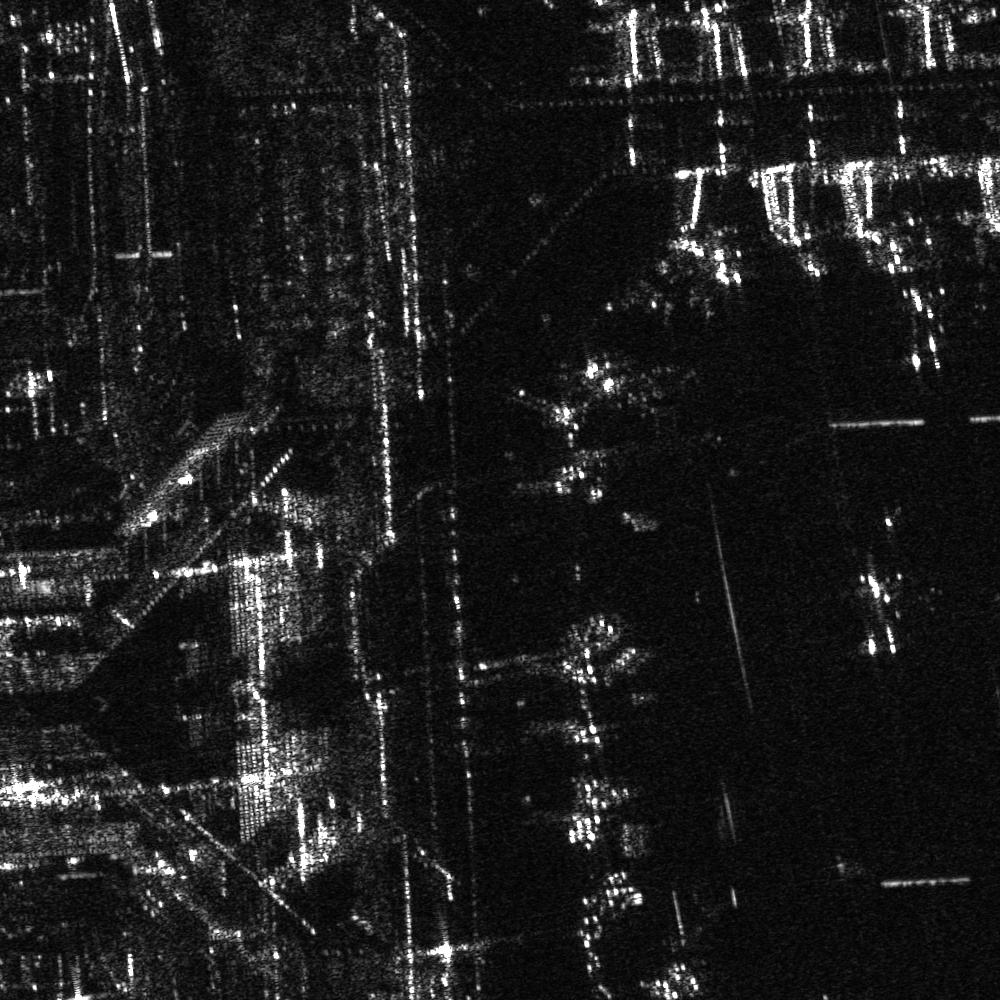Boeing787: (878, 275, 959, 373)
other: (841, 571, 914, 658)
